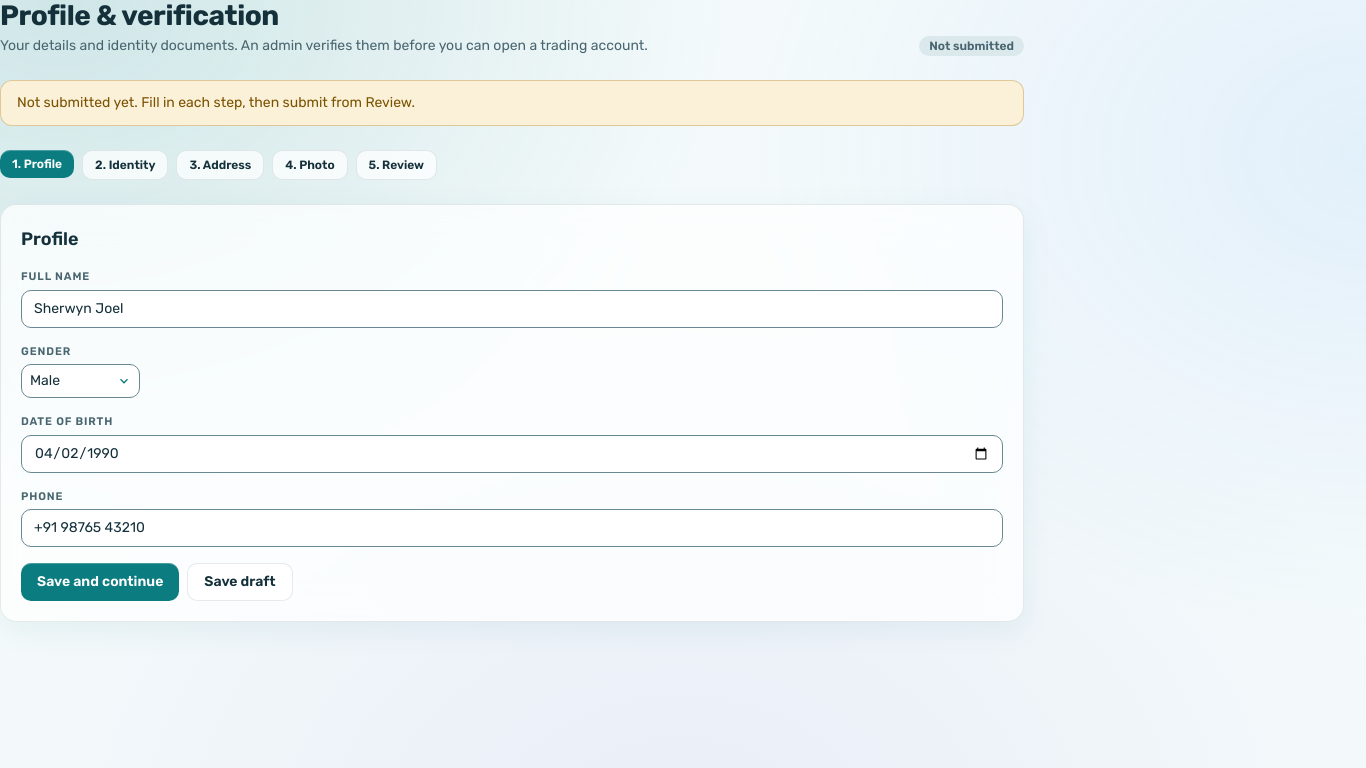
a complete draft is submitted with the MPIN and then locked
The image size is (1366, 768).
Click the button "5. Review". click: (396, 165)
box: top-left (356, 150), bottom-right (437, 180)
(page scrolled)
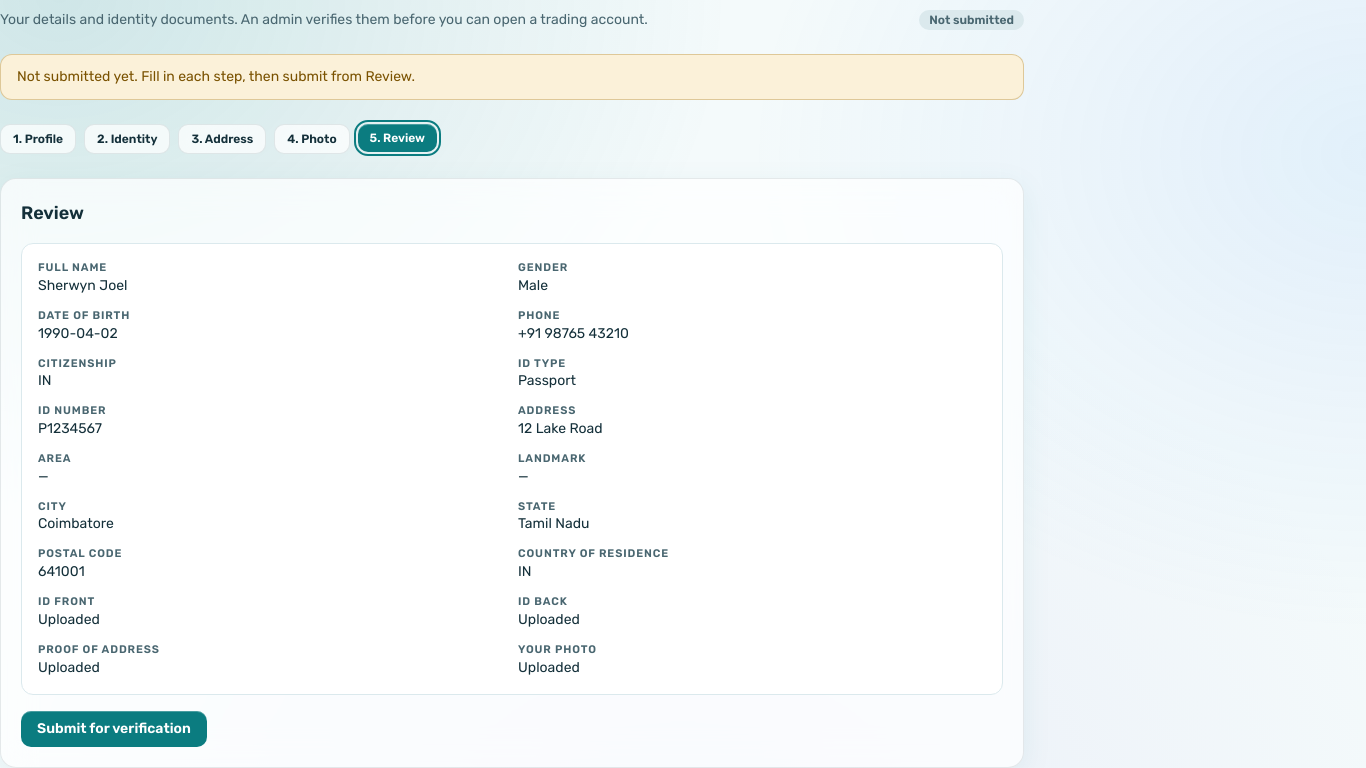
Click the button "Submit for verification". click: (114, 728)
box: top-left (21, 710), bottom-right (207, 746)
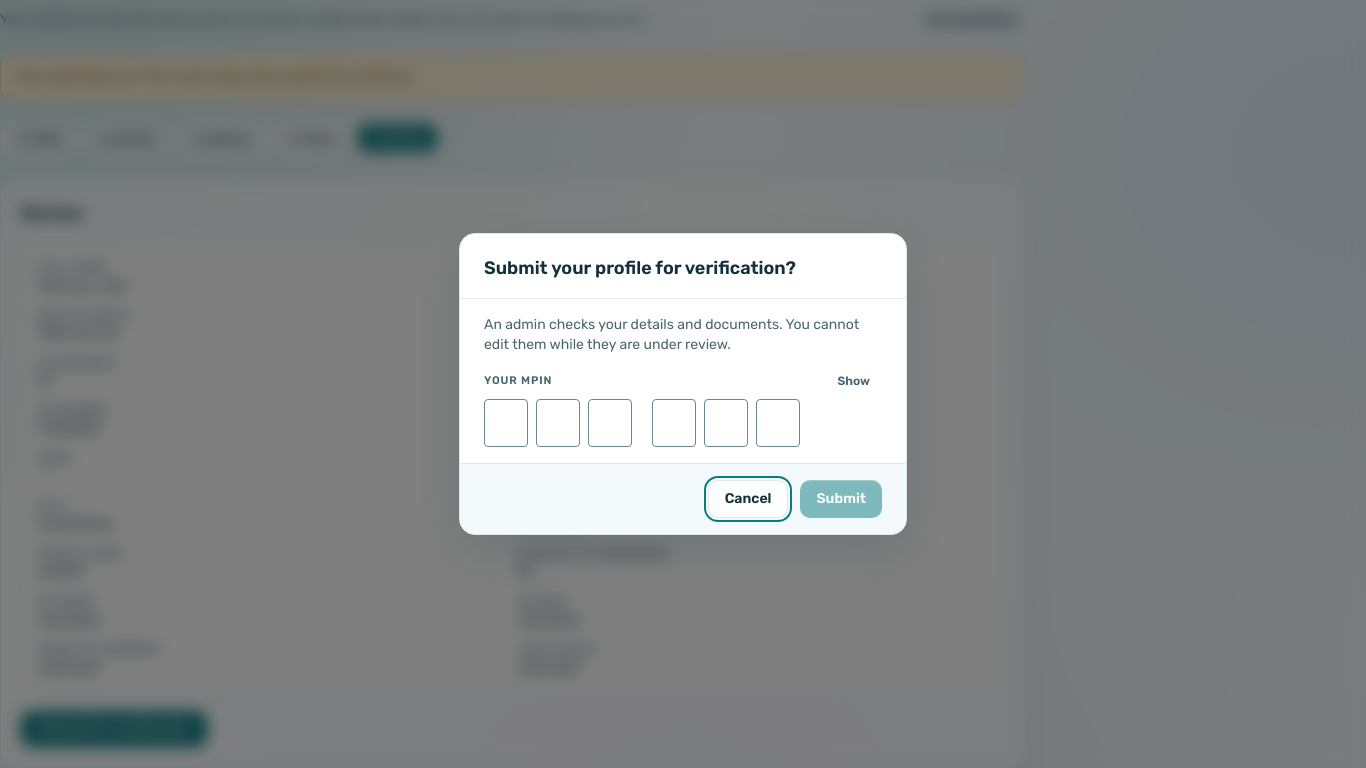
Click the password field named "Your MPIN digit 1 of 6". click: (506, 423)
box: top-left (484, 399), bottom-right (528, 447)
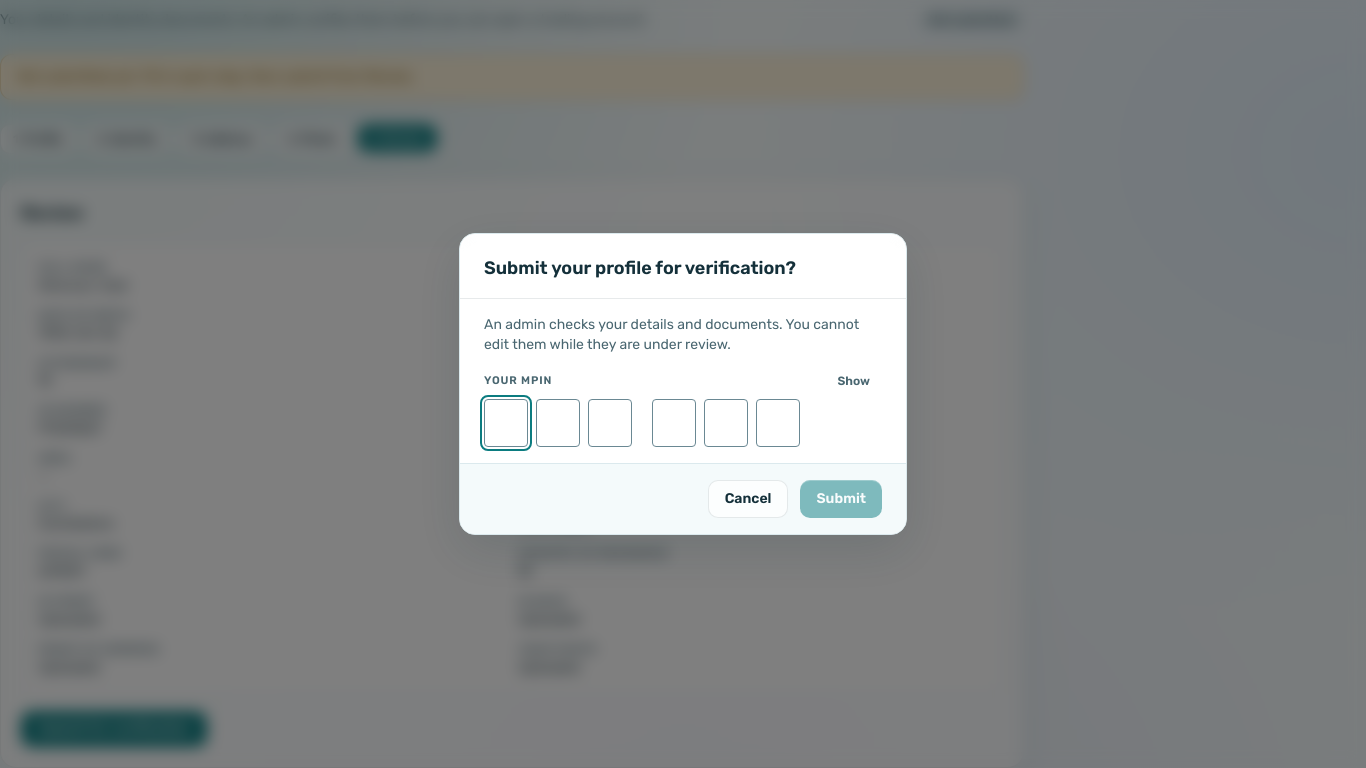
Type keys "123456"
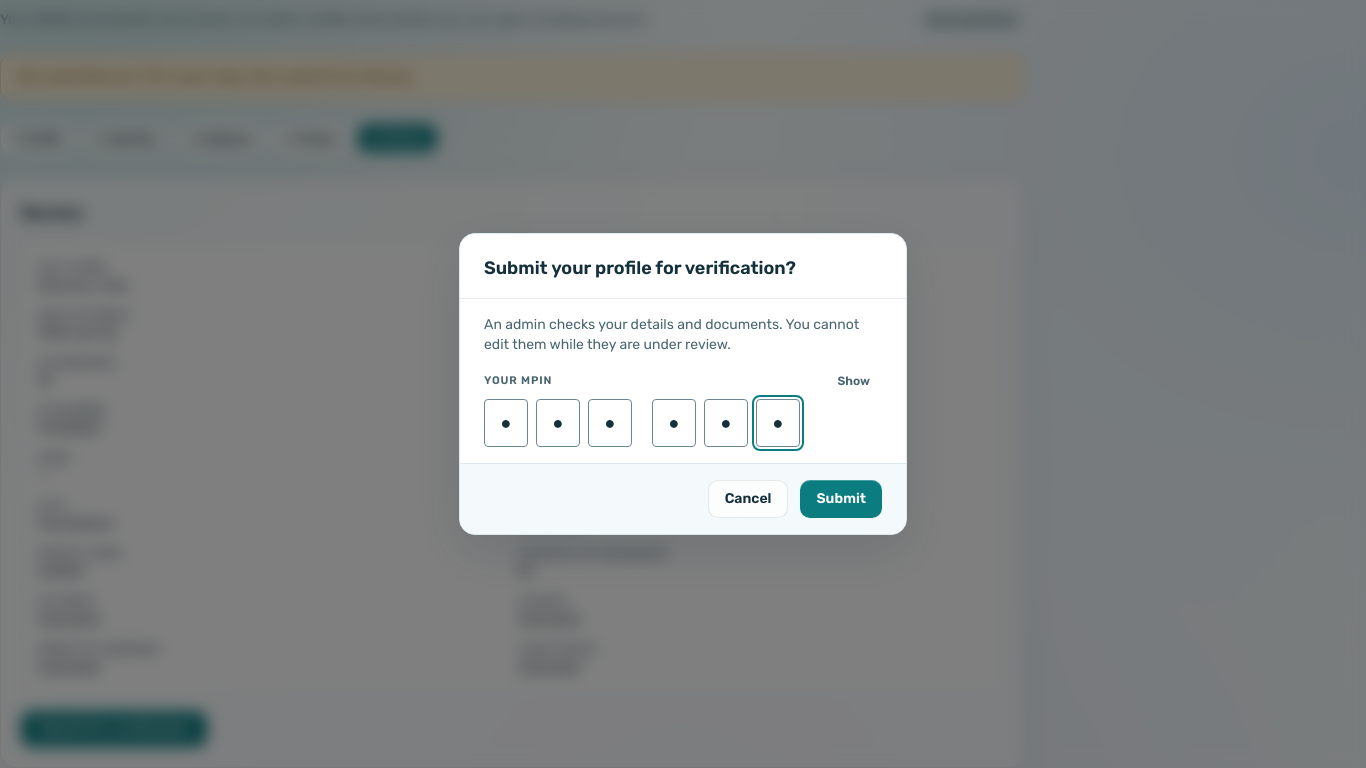
Click the button "Submit". click: (841, 499)
box: top-left (800, 480), bottom-right (882, 518)
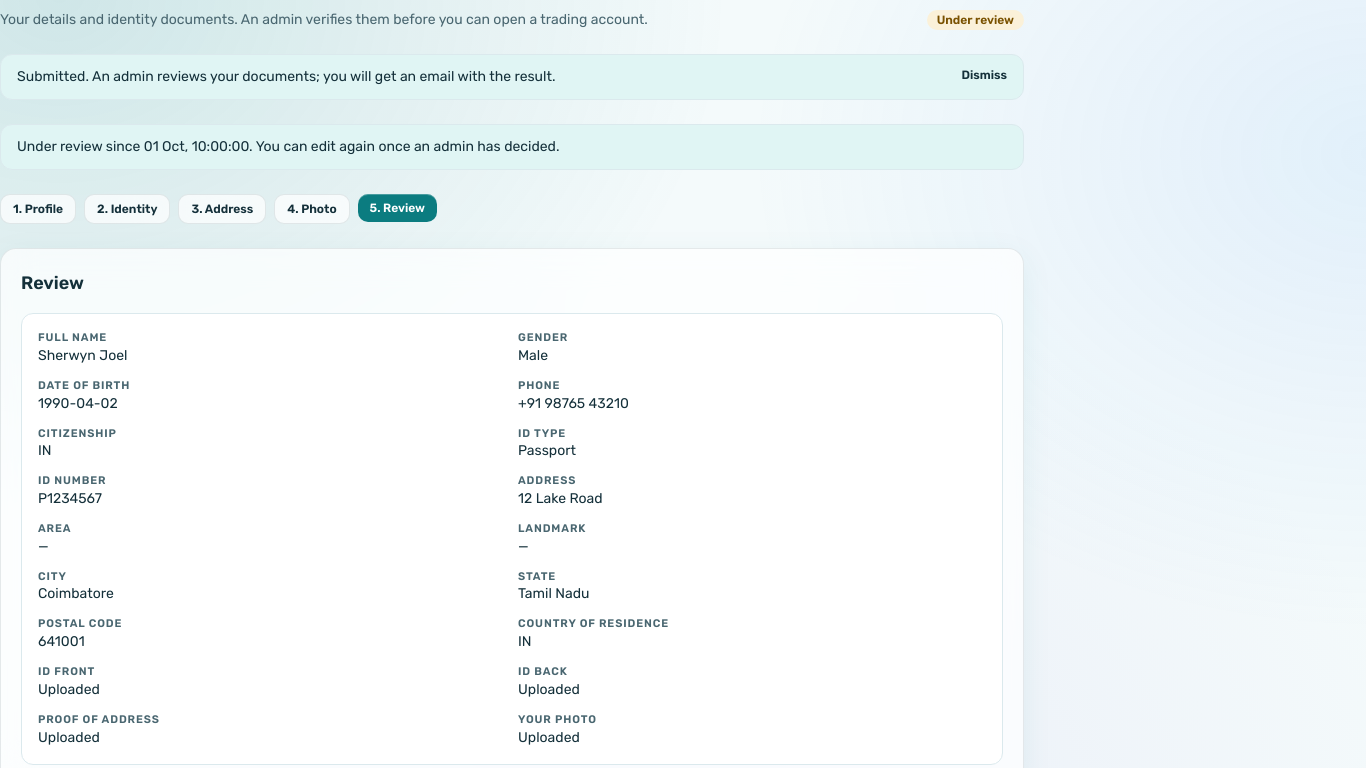
expect the dialog is gone: met
expect the text "Under review" is shown: met, box top-left (927, 10), bottom-right (1024, 30)
Click the button "1. Profile". click: (38, 209)
box: top-left (0, 194), bottom-right (76, 224)
(page scrolled)
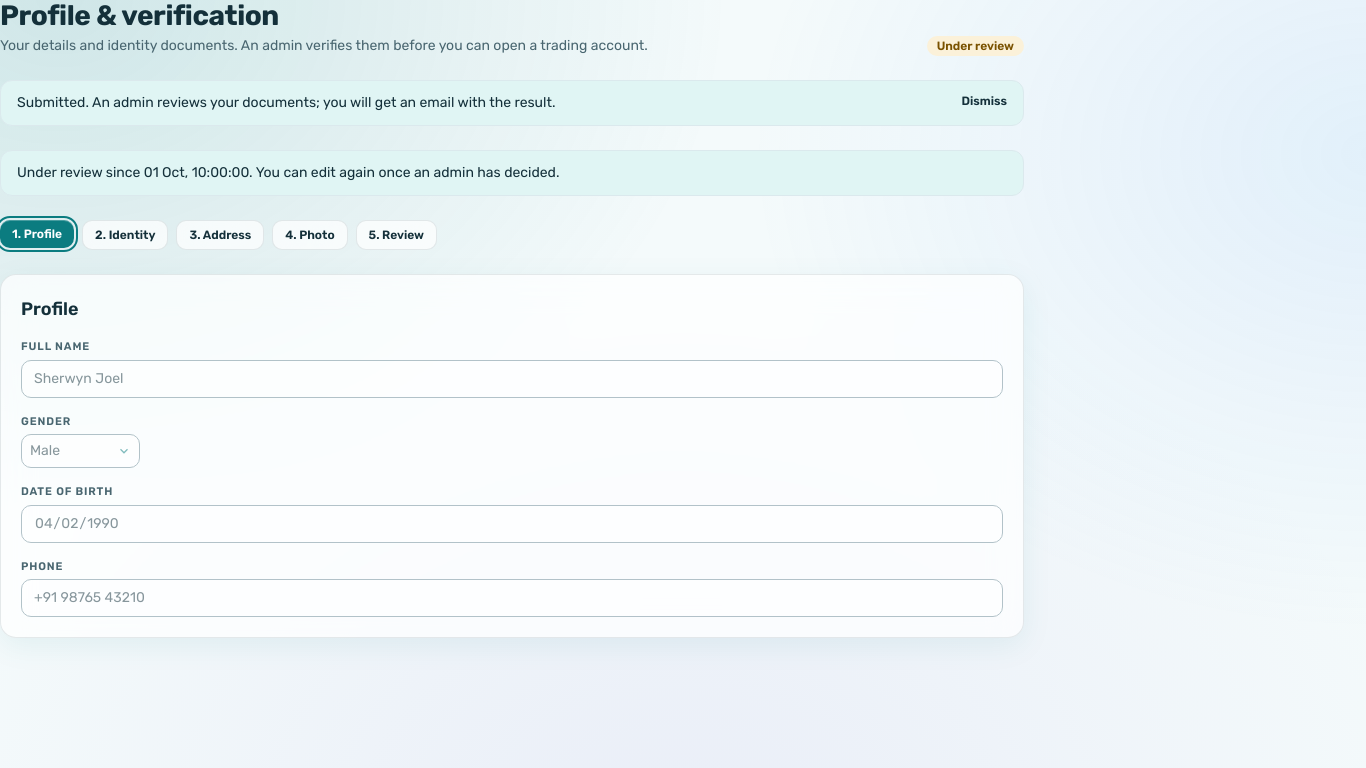
expect the button "Save and continue" is not shown: met
expect the field labelled "Full name" is disabled: met, box top-left (21, 360), bottom-right (1003, 398)
